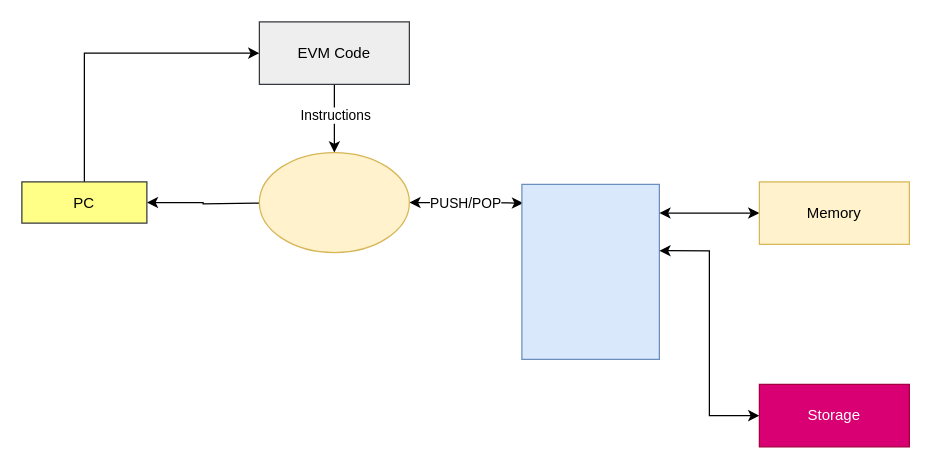
Image size: 931x469. Some labels were removed from this diagram. The shapes that lost their labels are listed below. From the top down, each one's centre as x and y in pixels, then its label:
At point (333, 201): "Operations".
At point (590, 271): "Stack".
